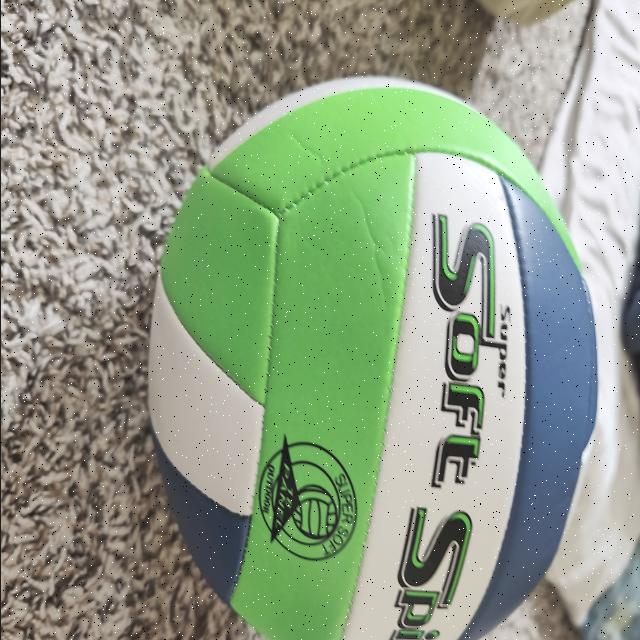ball: (160, 80, 594, 640)
